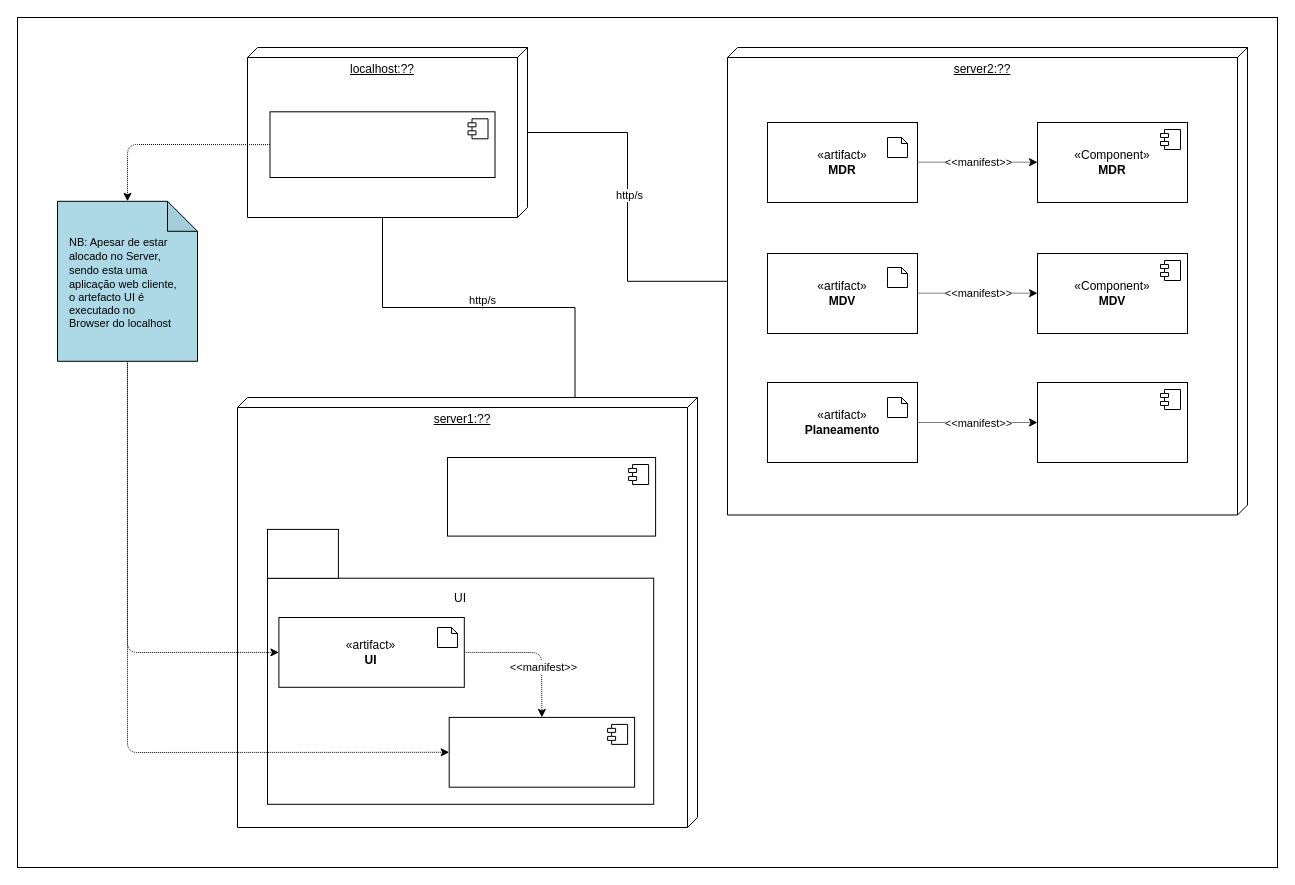
The diagram is 1295 pixels wide and 885 high, and some of its shapes have lost their labels. Each missing label, with the centre of its shape:
"«Component » Browser" belongs at (382,144).
"«Component » Http Server" belongs at (551,496).
"«Component » Planeamento" belongs at (1112,422).
"«Component » UI" belongs at (541,751).
